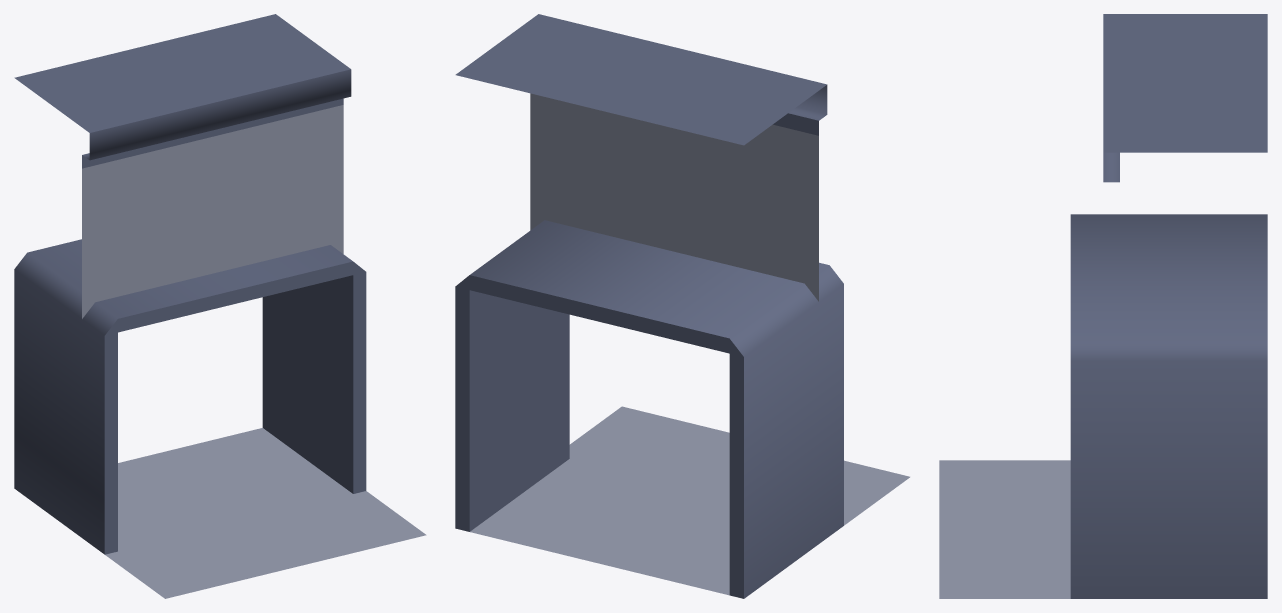
File: StructureDoorwayWide-transformed.glb
The picture shows the model from 3 angles, left to right: view 1: azimuth 30°, elevation 25°; view 2: azimuth 150°, elevation 25°; view 3: azimuth 270°, elevation 25°; orthographic projection. The views are drawn at different scales.
Parts seen in each view (by area): view 1: structure-doorway-wide; view 2: structure-doorway-wide; view 3: structure-doorway-wide.
Part boxes in pixels (x1,y1,x2,y2): structure-doorway-wide: (14, 14, 426, 598); structure-doorway-wide: (455, 14, 909, 598); structure-doorway-wide: (939, 14, 1267, 598).
Size of the model in its own units: 2 by 3 by 2.
